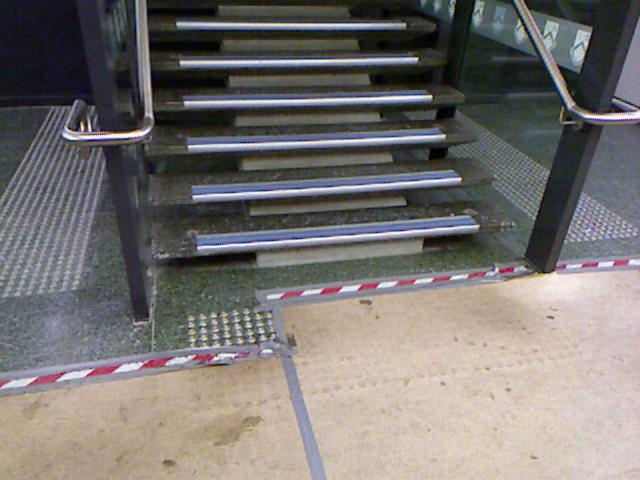Escaleras: (114, 13, 513, 268)
